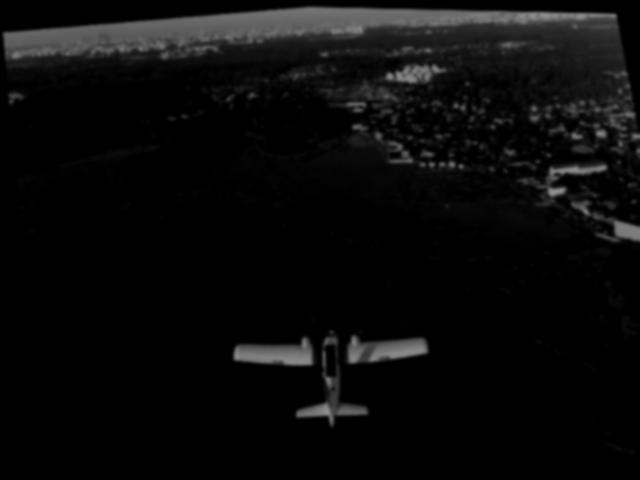hedef: (193, 308, 445, 441)
